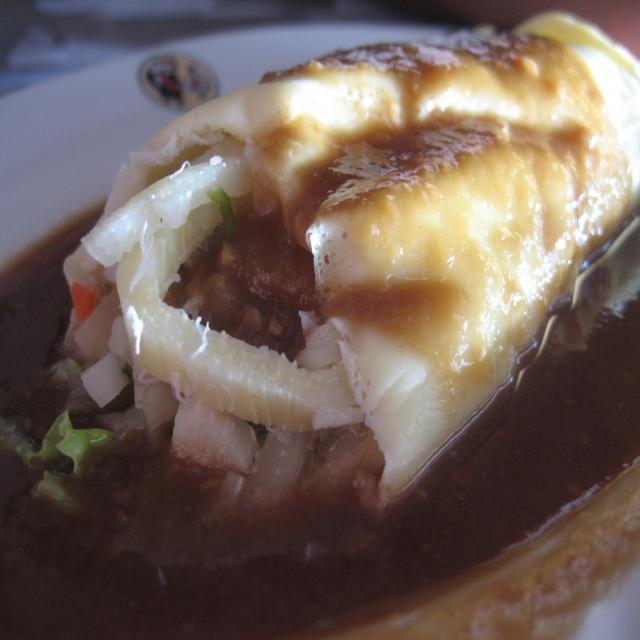Sandwich: (0, 9, 639, 570)
